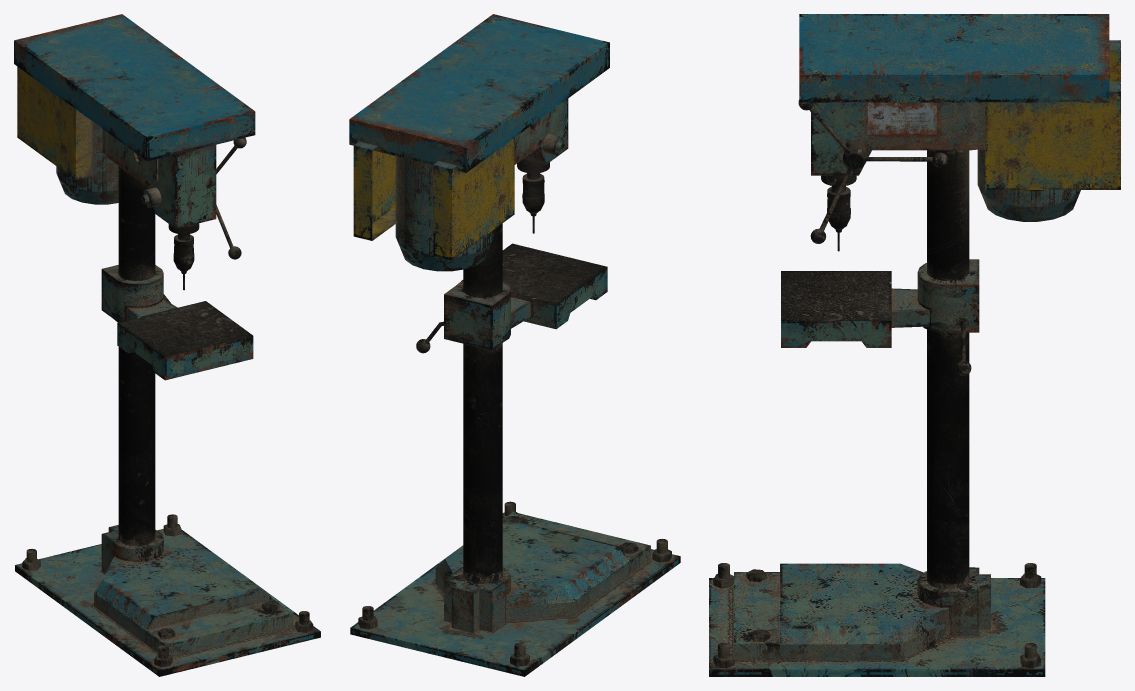
File: machine.fbx
The picture shows the model from 3 angles, left to right: view 1: azimuth 30°, elevation 25°; view 2: azimuth 150°, elevation 25°; view 3: azimuth 270°, elevation 25°; orthographic projection. The views are drawn at different scales.
Parts seen in each view (by area): view 1: Drill_press_Drill_press_0_453; view 2: Drill_press_Drill_press_0_453; view 3: Drill_press_Drill_press_0_453.
Boxes of the visible parts, bbox=[...] form: Drill_press_Drill_press_0_453: bbox=[14, 14, 320, 676]; Drill_press_Drill_press_0_453: bbox=[349, 14, 680, 676]; Drill_press_Drill_press_0_453: bbox=[709, 14, 1120, 676].
Size of the model in its own units: 6904 by 20591 by 13102.
Materials: 1 (1 with a texture image).
